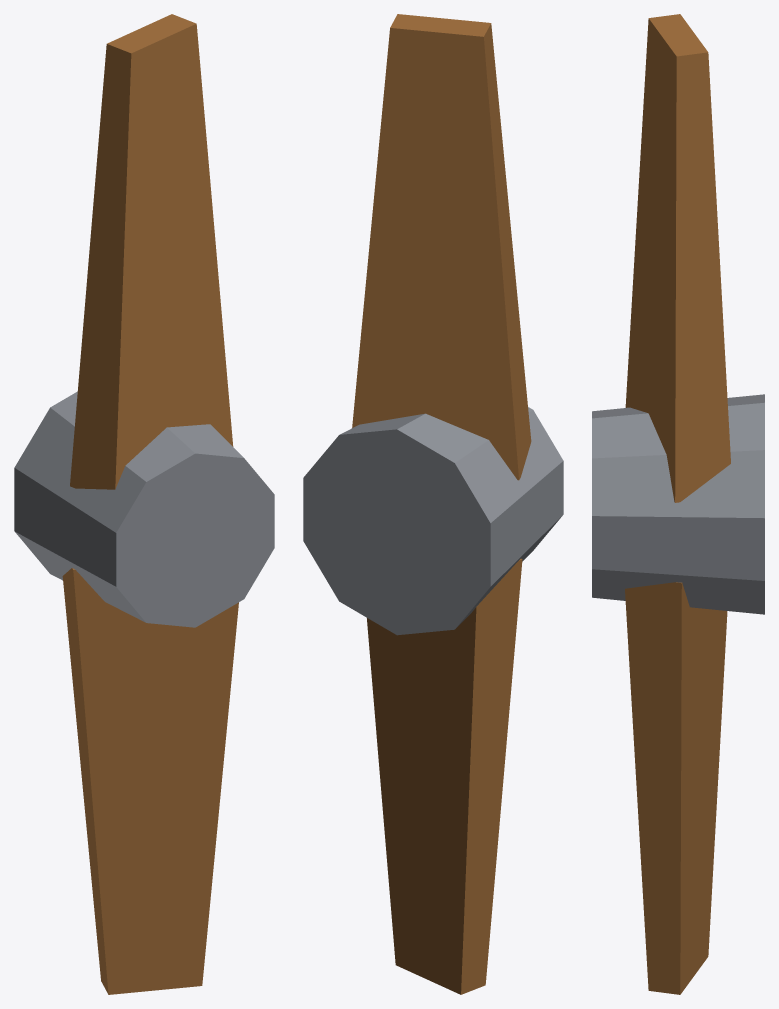
The model's file is propeller.glb.
3 renders of one model, left to right at view 1: azimuth 30°, elevation 25°; view 2: azimuth 150°, elevation 25°; view 3: azimuth 270°, elevation 25°, orthographic.
Visible parts, largest first — view 1: prop_blade_0, prop_blade_1, prop_hub; view 2: prop_blade_0, prop_blade_1, prop_hub; view 3: prop_blade_0, prop_blade_1, prop_hub.
Part boxes in pixels (x1,y1,x2,y2): prop_blade_0: (70, 14, 233, 489); prop_blade_1: (62, 568, 238, 994); prop_hub: (14, 391, 274, 627); prop_blade_0: (352, 14, 531, 480); prop_blade_1: (367, 558, 522, 994); prop_hub: (303, 407, 563, 635); prop_blade_0: (625, 14, 730, 502); prop_blade_1: (625, 582, 727, 994); prop_hub: (592, 394, 764, 614).
Size of the model in its own units: 0.2473 by 1.2 by 0.2.
